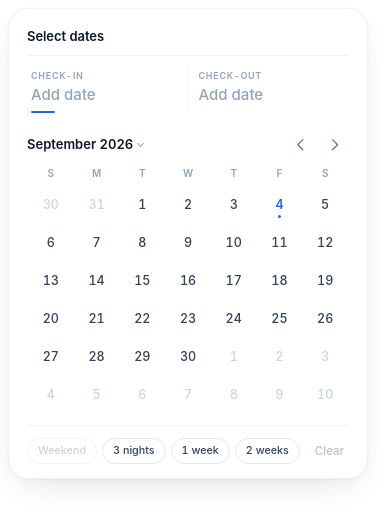
Test: DatePicker: selection › honours `minNights` on the end pick
Click the 1st cell "4": click(279, 204) [257, 186, 302, 222]
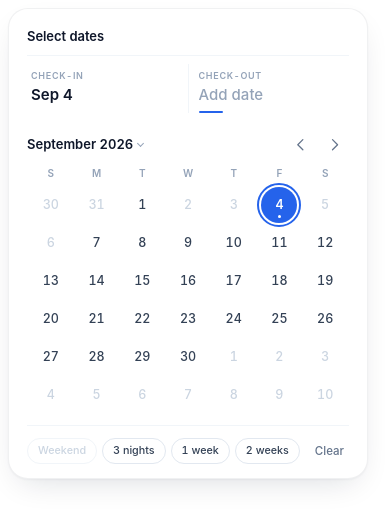
Click the 1st cell "5": click(325, 204) [302, 186, 348, 222]
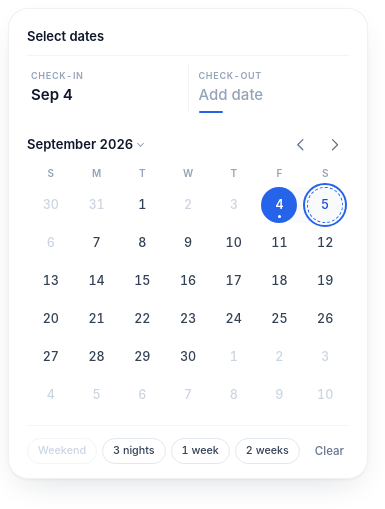
Click the 1st cell "8": click(142, 242) [119, 224, 165, 260]
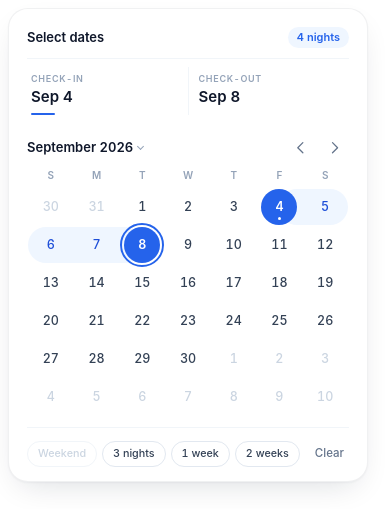
Now the text with class "dpng-header__badge" reads "4 nights", box [297, 30, 340, 44]
